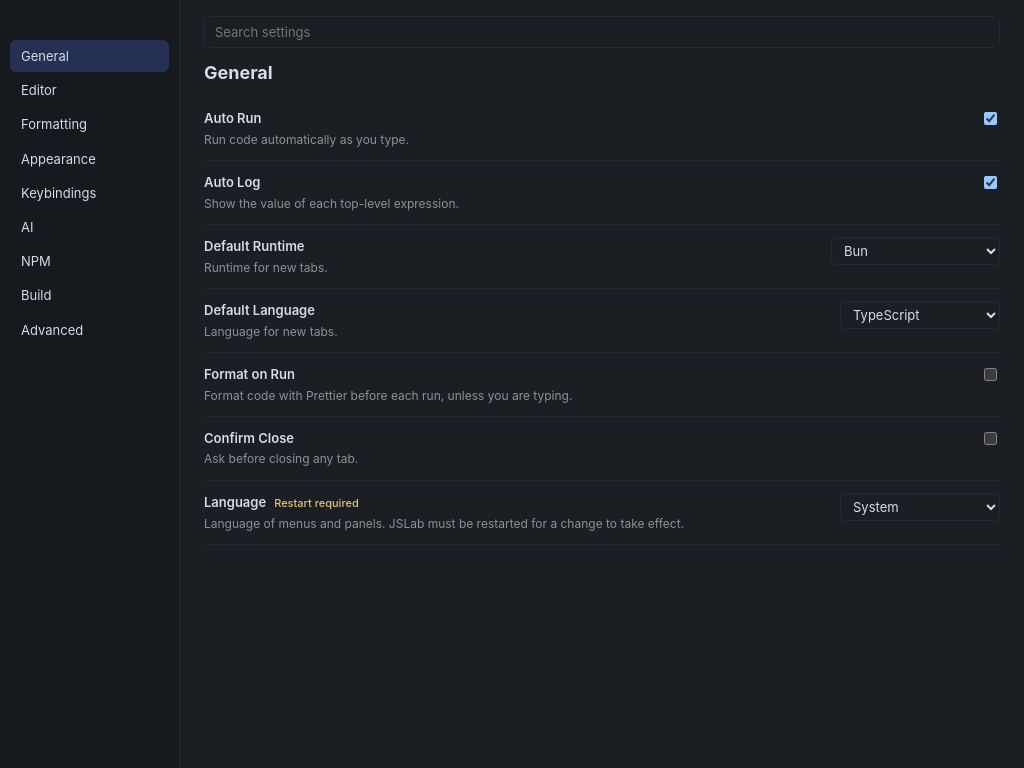
Test: SettingsApp › a failed save resyncs from Main, so a number field shows Main's value instead of the typed draft
Click the tab "Appearance" at [90, 159], box top-left (10, 143), bottom-right (169, 175)
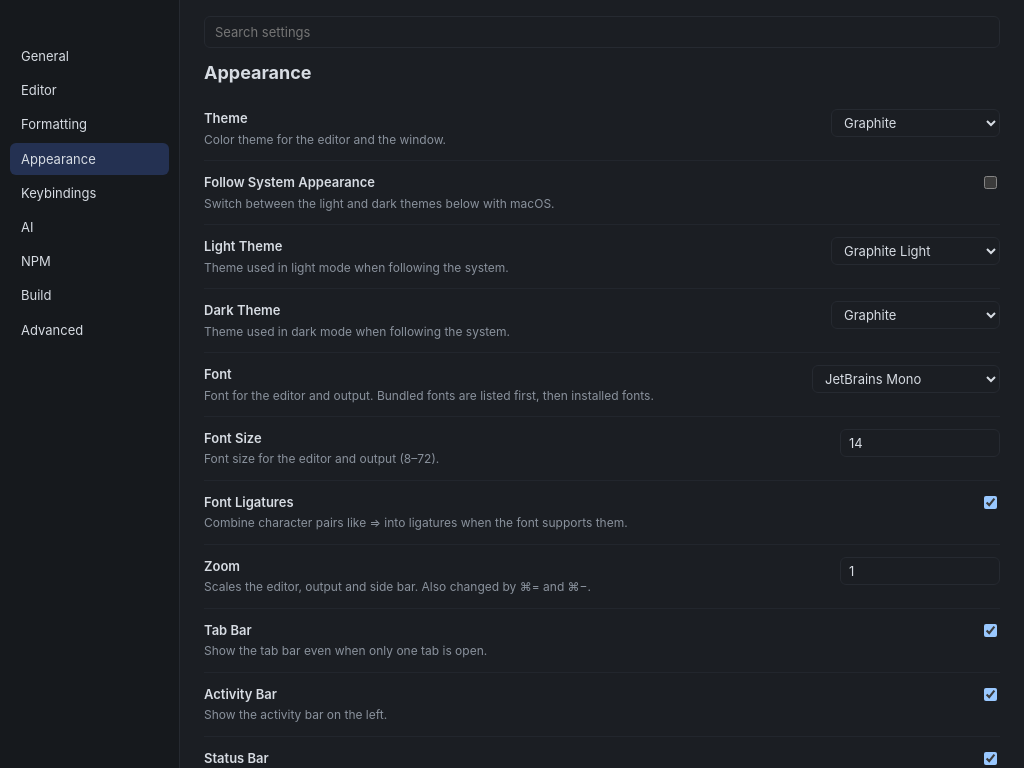
Replace the text in the number field labelled "Font Size" with "30" at [920, 443], box top-left (840, 429), bottom-right (1000, 458)
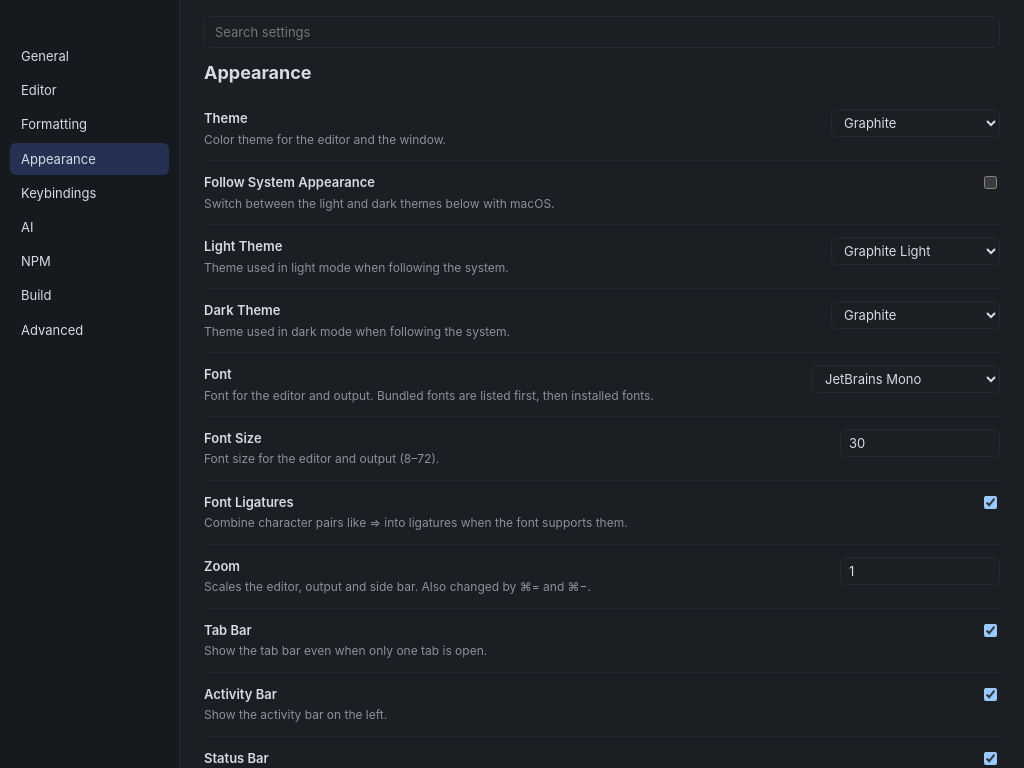
Leave the number field labelled "Font Size", box top-left (840, 429), bottom-right (1000, 458)
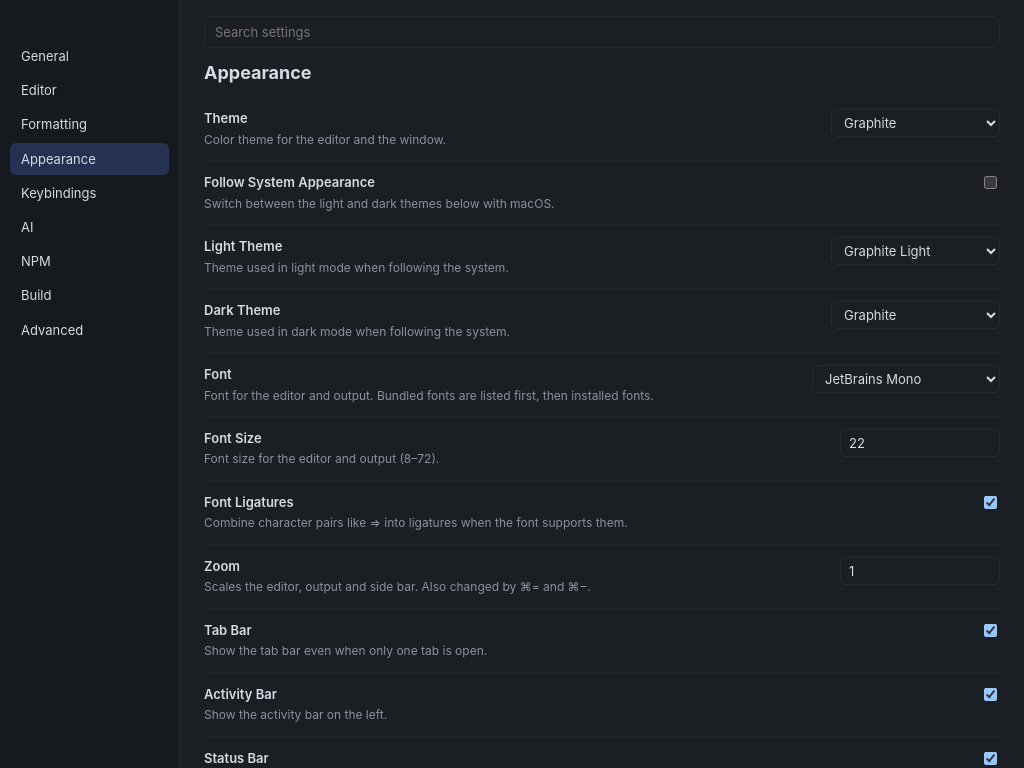
Result: the number field labelled "Font Size" holds "22" at top-left (840, 429), bottom-right (1000, 458)
